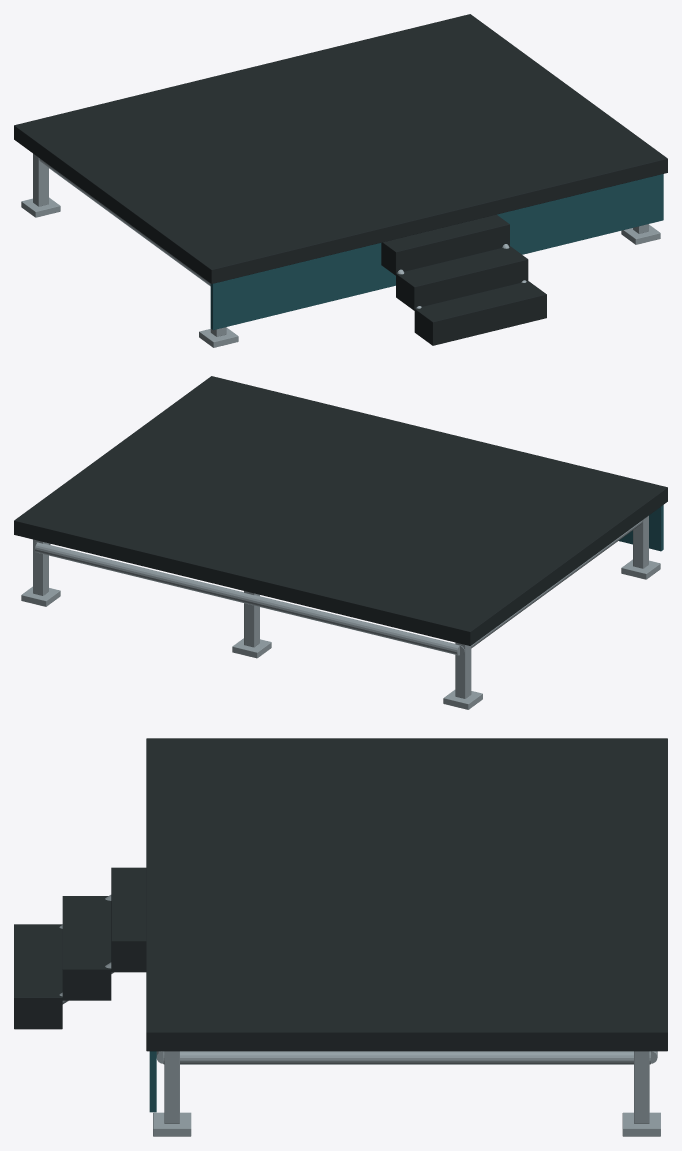
File: outdoor-stage.glb
The picture shows the model from 3 angles, top to bottom: view 1: azimuth 30°, elevation 25°; view 2: azimuth 150°, elevation 25°; view 3: azimuth 270°, elevation 25°; orthographic projection. The views are drawn at different scales.
Visible parts, largest first — view 1: Modular_Deck, Front_Fascia, Stair_Tread, Stair_Tread.001, Stair_Tread.002, Support.001, Side_Truss; view 2: Modular_Deck, Long_Truss.001, Support.001, Front_Fascia, Support, Support.005, Support.003, Side_Truss; view 3: Modular_Deck, Side_Truss.001, Stair_Tread.001, Stair_Tread, Stair_Tread.002, Support.004, Support.005, Foot.004, Foot.005.
Part boxes in pixels (<box>): Modular_Deck: <box>14,14,667,283</box>; Front_Fascia: <box>210,174,663,330</box>; Stair_Tread: <box>414,281,546,345</box>; Stair_Tread.001: <box>396,246,528,310</box>; Stair_Tread.002: <box>381,214,509,275</box>; Support.001: <box>33,153,48,206</box>; Side_Truss: <box>39,158,210,286</box>; Modular_Deck: <box>14,376,667,645</box>; Long_Truss.001: <box>35,542,459,655</box>; Support.001: <box>455,642,471,698</box>; Front_Fascia: <box>619,505,663,551</box>; Support: <box>633,515,648,568</box>; Support.005: <box>33,539,48,595</box>; Support.003: <box>244,591,259,647</box>; Side_Truss: <box>460,520,642,655</box>; Modular_Deck: <box>146,738,667,1051</box>; Side_Truss.001: <box>163,1051,650,1064</box>; Stair_Tread.001: <box>62,896,111,1000</box>; Stair_Tread: <box>14,924,62,1029</box>; Stair_Tread.002: <box>111,867,146,972</box>; Support.004: <box>164,1051,179,1123</box>; Support.005: <box>634,1051,649,1123</box>; Foot.004: <box>153,1112,191,1136</box>; Foot.005: <box>622,1112,660,1136</box>.
Size of the model in its own units: 4 by 0.68 by 3.76.
